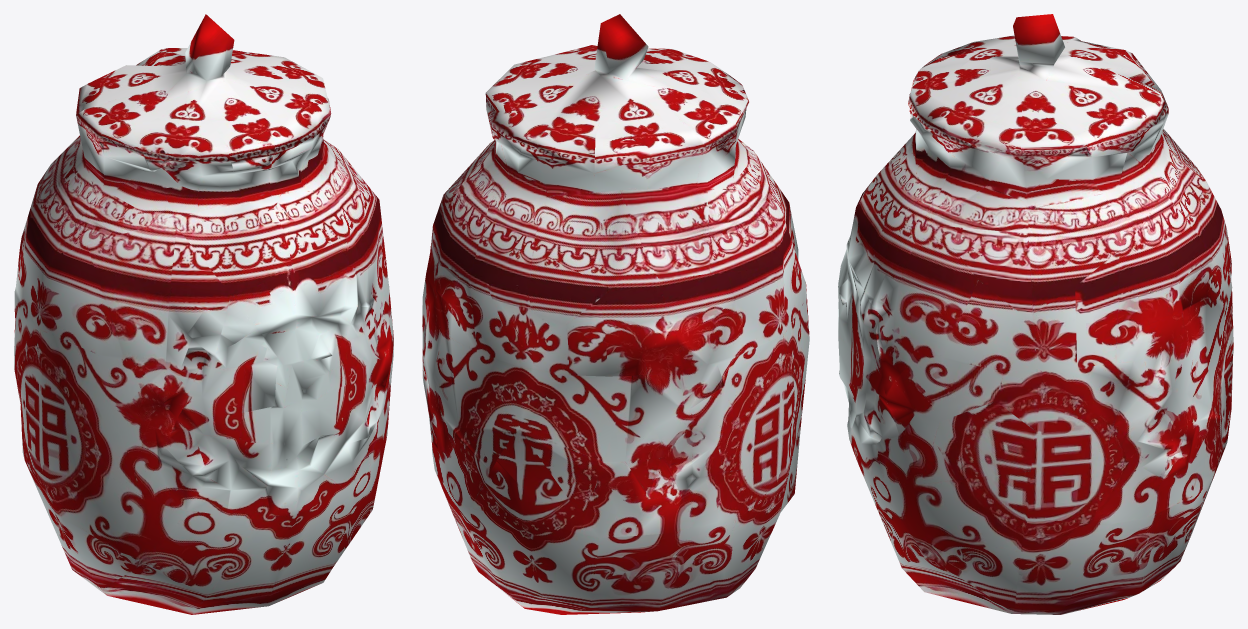
Rendered from peptides.glb.
3 views of the same model, side by side, from view 1: azimuth 30°, elevation 25°; view 2: azimuth 150°, elevation 25°; view 3: azimuth 270°, elevation 25° (orthographic). The views are drawn at different scales.
Size of the model in its own units: 1.19 by 1.88 by 1.21.
Materials: 1 (1 with a texture image).
